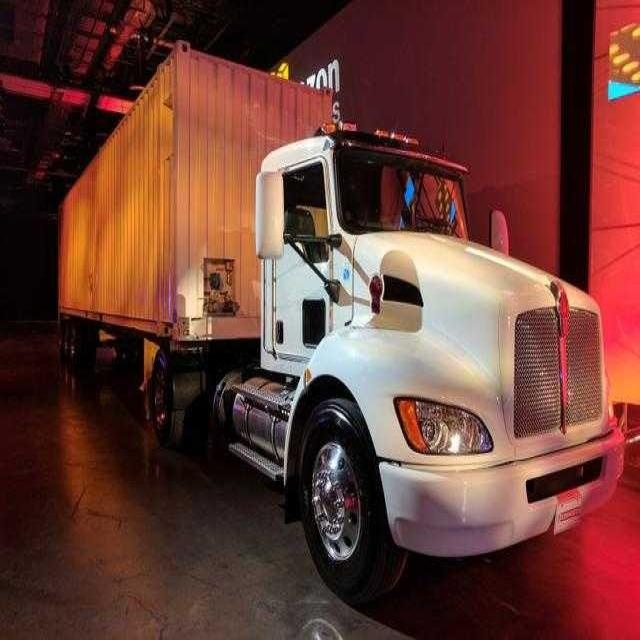Truck: (49, 28, 628, 616)
